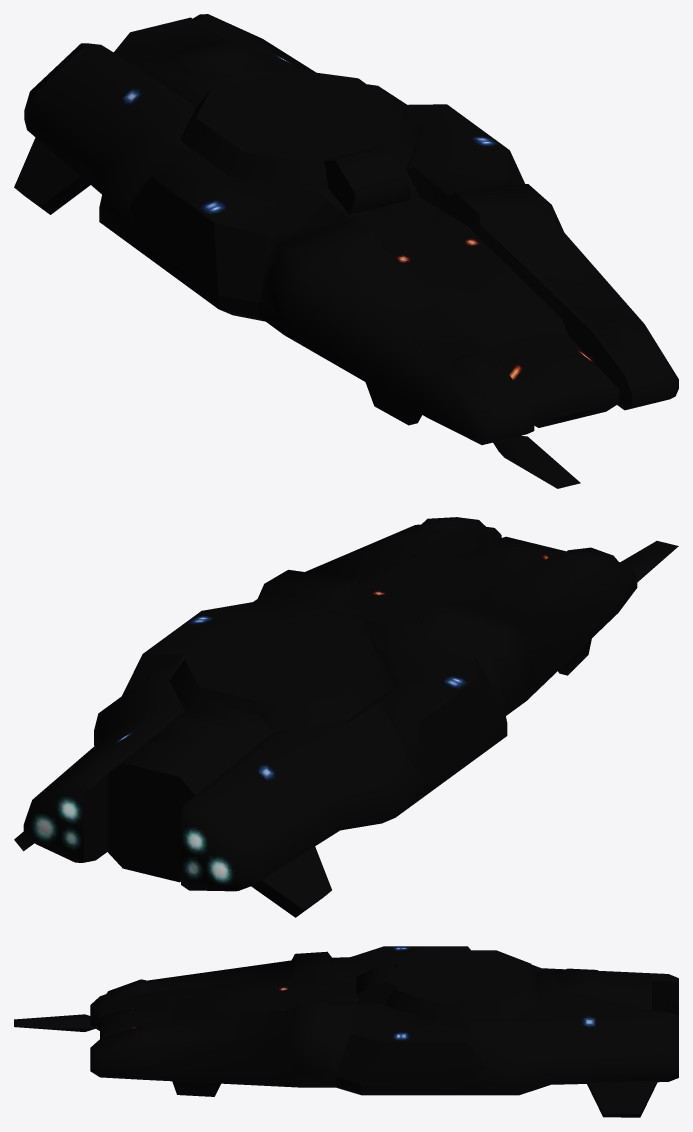
Rendered from hgn_sc_assa_01_t2.glb.
3 views of the same model, one above another, from view 1: azimuth 30°, elevation 25°; view 2: azimuth 150°, elevation 25°; view 3: azimuth 270°, elevation 25° (orthographic). The views are drawn at different scales.
Parts seen in each view (by area): view 1: hgn_assault_corvette_01_LOD0; view 2: hgn_assault_corvette_01_LOD0; view 3: hgn_assault_corvette_01_LOD0.
Part boxes in pixels (box(x1,y1,x2,y2)): hgn_assault_corvette_01_LOD0: box(14, 14, 678, 488); hgn_assault_corvette_01_LOD0: box(14, 517, 678, 917); hgn_assault_corvette_01_LOD0: box(14, 946, 678, 1117).
Size of what is drawn, in the model's own units: 0.2437 by 0.1069 by 0.6561.
Materials: 1 (1 with a texture image).
